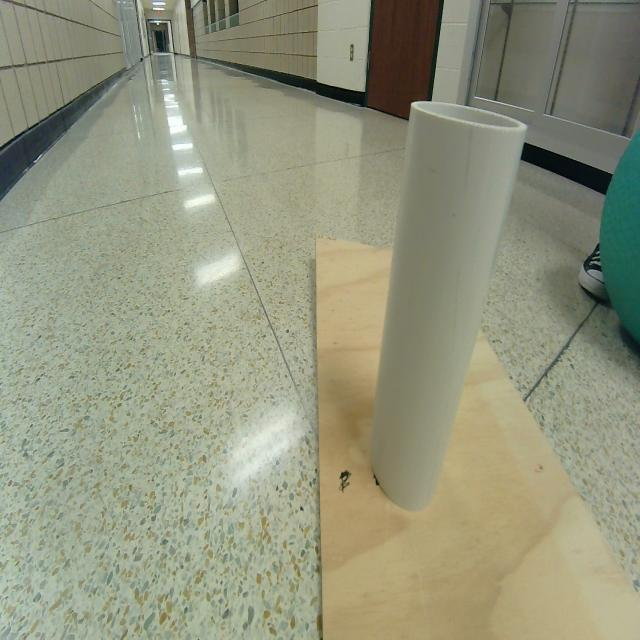algae: (598, 129, 640, 351)
coral: (371, 102, 526, 510)
